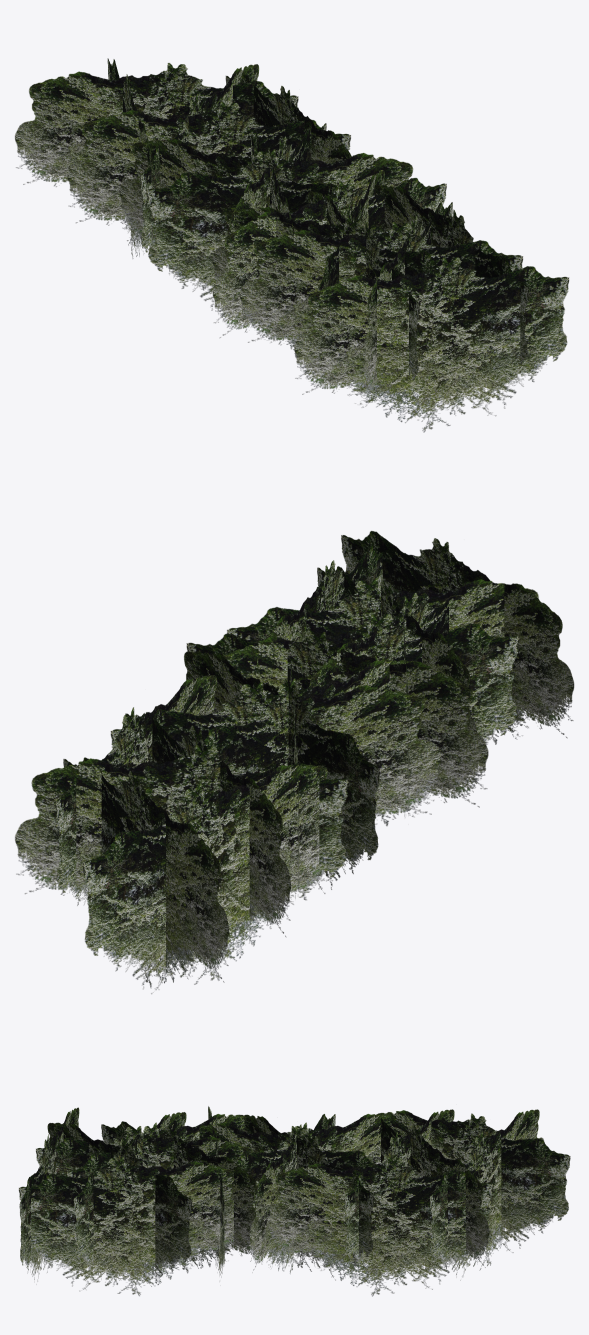
The model's file is shrub_3.glb.
3 renders of one model, top to bottom at view 1: azimuth 30°, elevation 25°; view 2: azimuth 150°, elevation 25°; view 3: azimuth 270°, elevation 25°, orthographic. The views are drawn at different scales.
Visible parts, largest first — view 1: Mesh_0; view 2: Mesh_0; view 3: Mesh_0.
Part boxes in pixels (<box>): Mesh_0: <box>15,58,569,432</box>; Mesh_0: <box>15,531,574,994</box>; Mesh_0: <box>19,1106,570,1296</box>.
Bounding box in the file's own units: 3.84 × 2.65 × 9.18.
Materials: 1 (1 with a texture image).
